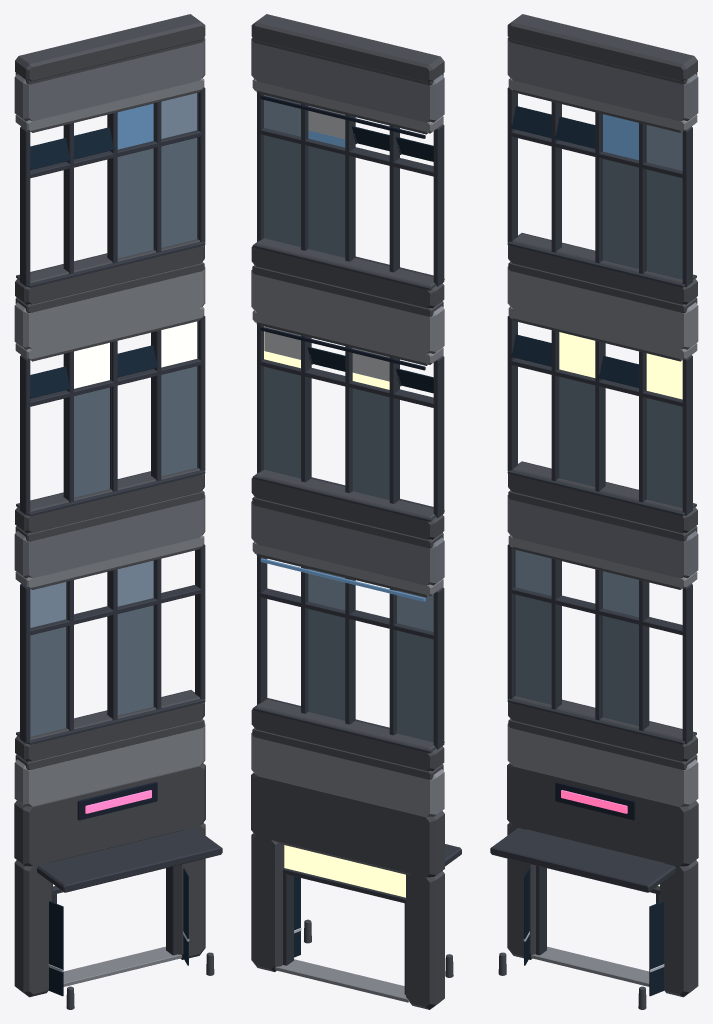
The model's file is spire_lobby.glb.
3 views of the same model, side by side, from view 1: azimuth 30°, elevation 25°; view 2: azimuth 150°, elevation 25°; view 3: azimuth 330°, elevation 25° (orthographic).
Parts seen in each view (by area): view 1: spire_lobby, lobby_header, spire_lobby_spandrel1, spire_lobby_spandrel2, spire_lobby_spandrel3, spire_lobby_spandrel0, lobby_canopy, spire_lobby_parapet, spire_lobby_sill3, spire_lobby_sill2, lobby_pier-1, spire_lobby_sill1 (+35 smaller); view 2: spire_lobby, lobby_header, spire_lobby_spandrel2, spire_lobby_spandrel1, spire_lobby_spandrel3, spire_lobby_spandrel0, spire_lobby_parapet, spire_lobby_sill2, spire_lobby_sill1, spire_lobby_sill3, lobby_pier-1, lobby_pier1 (+33 smaller); view 3: spire_lobby, lobby_header, spire_lobby_spandrel1, spire_lobby_spandrel2, spire_lobby_spandrel3, spire_lobby_spandrel0, lobby_canopy, spire_lobby_parapet, spire_lobby_sill1, lobby_pier1, spire_lobby_sill3, spire_lobby_sill2 (+35 smaller).
Part boxes in pixels (box(x1,y1,x2,y2)): spire_lobby: box(20, 87, 205, 743); lobby_header: box(14, 763, 205, 866); spire_lobby_spandrel1: box(14, 495, 205, 578); spire_lobby_spandrel2: box(14, 266, 205, 349); spire_lobby_spandrel3: box(14, 38, 205, 121); spire_lobby_spandrel0: box(14, 723, 205, 806); lobby_canopy: box(37, 828, 222, 892); spire_lobby_parapet: box(15, 14, 205, 81); spire_lobby_sill3: box(15, 239, 204, 304); spire_lobby_sill2: box(15, 467, 204, 532); lobby_pier-1: box(14, 860, 52, 997); spire_lobby_sill1: box(15, 690, 204, 761); spire_lobby: box(257, 93, 444, 749); lobby_header: box(251, 773, 444, 877); spire_lobby_spandrel2: box(251, 270, 444, 353); spire_lobby_spandrel1: box(251, 501, 444, 585); spire_lobby_spandrel3: box(251, 38, 444, 122); spire_lobby_spandrel0: box(251, 732, 444, 816); spire_lobby_parapet: box(251, 14, 444, 82); spire_lobby_sill2: box(251, 469, 444, 539); spire_lobby_sill1: box(251, 699, 444, 771); spire_lobby_sill3: box(251, 238, 444, 308); lobby_pier-1: box(406, 871, 444, 1009); lobby_pier1: box(251, 833, 284, 971); spire_lobby: box(507, 87, 692, 743); lobby_header: box(507, 763, 698, 866); spire_lobby_spandrel1: box(507, 495, 698, 578); spire_lobby_spandrel2: box(507, 266, 698, 349); spire_lobby_spandrel3: box(507, 38, 698, 121); spire_lobby_spandrel0: box(507, 723, 698, 806); lobby_canopy: box(490, 828, 675, 892); spire_lobby_parapet: box(507, 14, 697, 81); spire_lobby_sill1: box(508, 696, 697, 761); lobby_pier1: box(660, 860, 698, 997); spire_lobby_sill3: box(508, 233, 697, 304); spire_lobby_sill2: box(508, 462, 697, 532).
Size of the model in its own units: 8.38 by 40.89 by 3.2.
